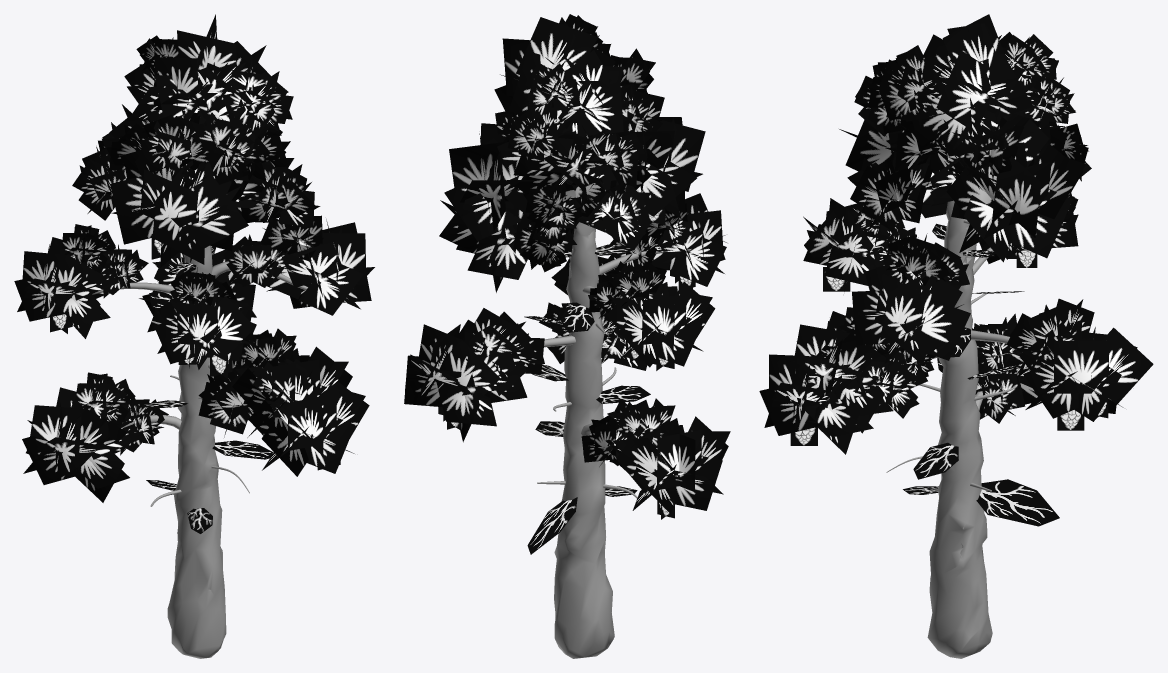
The model's file is Pine_01.fbx.
3 renders of one model, left to right at view 1: azimuth 30°, elevation 25°; view 2: azimuth 150°, elevation 25°; view 3: azimuth 270°, elevation 25°, orthographic. The views are drawn at different scales.
Visible parts, largest first — view 1: pPlane40, pPlane69, pPlane67; view 2: pPlane40, pPlane69, pPlane67; view 3: pPlane40, pPlane69, pPlane67.
Boxes of the visible parts, x1,y1,x2,y2 form: pPlane40: [14, 14, 374, 502]; pPlane69: [92, 245, 307, 658]; pPlane67: [50, 234, 340, 470]; pPlane40: [404, 14, 730, 513]; pPlane69: [436, 222, 728, 658]; pPlane67: [438, 208, 695, 519]; pPlane40: [759, 14, 1153, 454]; pPlane69: [886, 200, 1059, 658]; pPlane67: [790, 243, 1108, 445].
Size of the model in its own units: 1215 by 2439 by 1355.
